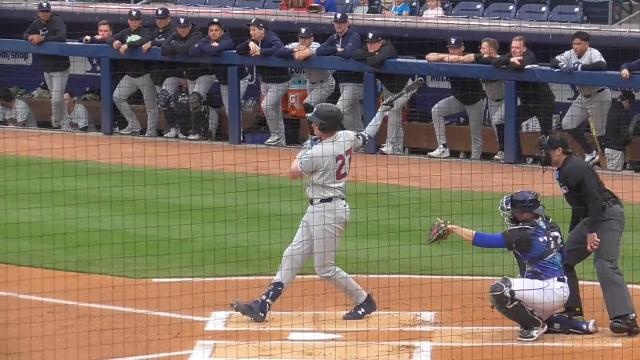bat: (394, 78, 424, 98)
